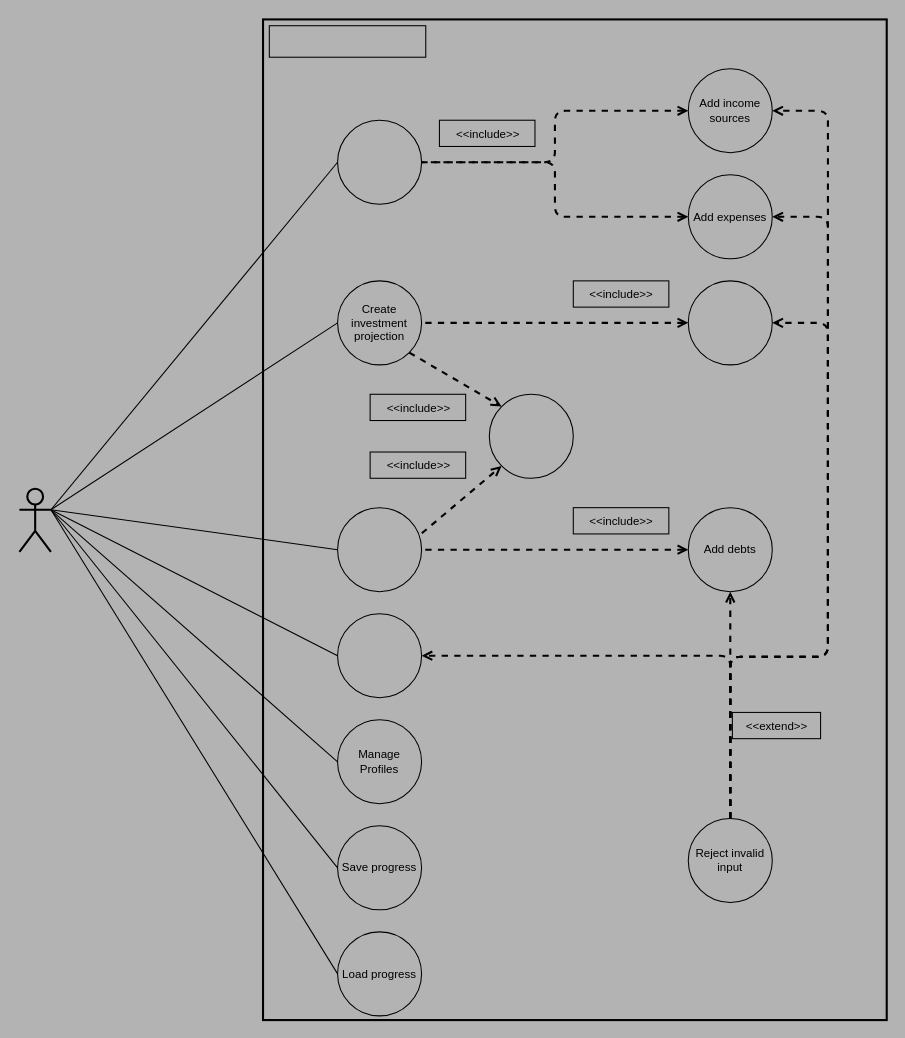
Image size: 905x1038. Some labels were removed from this diagram. The shapes that lost their labels are listed below. From the top down, each one's box as (x1, y1, x2, y2) in pixels, then its label:
(268, 25, 426, 57): Trajectory System
(337, 119, 422, 204): Create a budget
(687, 280, 772, 365): Add investments
(488, 393, 573, 478): View projection or graph
(18, 487, 51, 552): User
(337, 507, 422, 592): Create debt projection
(337, 613, 422, 698): Edit/Delete Data
